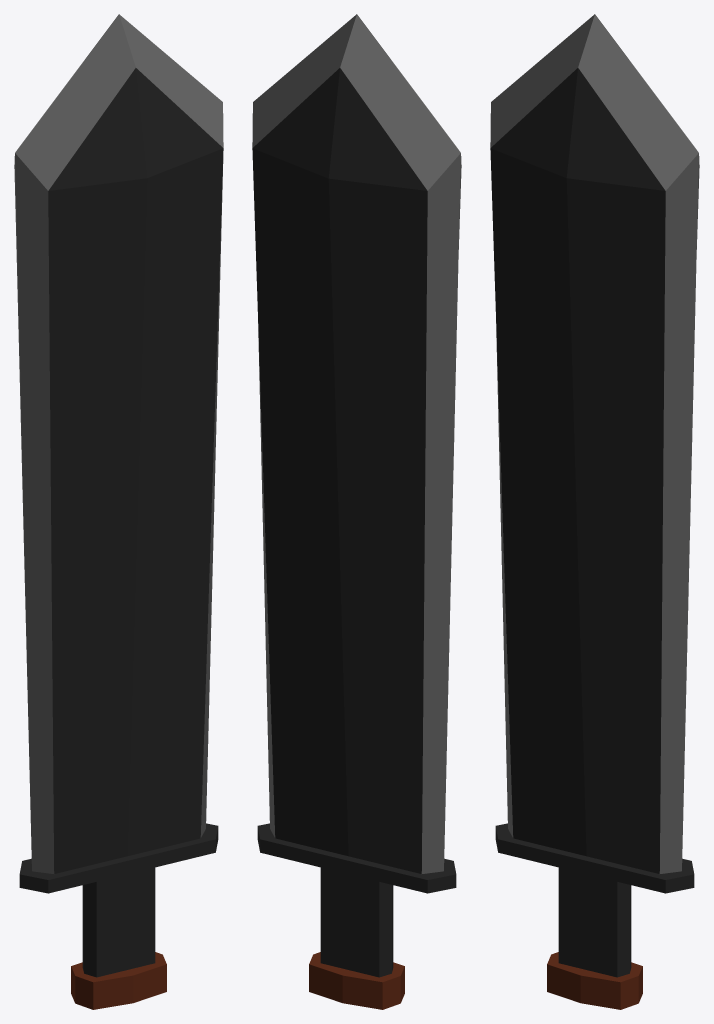
Rendered from sword.fbx.
The picture shows the model from 3 angles, left to right: view 1: azimuth 30°, elevation 25°; view 2: azimuth 150°, elevation 25°; view 3: azimuth 330°, elevation 25°; orthographic projection.
Parts seen in each view (by area): view 1: Sword; view 2: Sword; view 3: Sword.
Boxes of the visible parts, x1,y1,x2,y2 form: Sword: (14, 14, 223, 1009); Sword: (252, 14, 461, 1009); Sword: (490, 14, 699, 1009).
Size of the model in its own units: 62.47 by 281 by 29.44.
